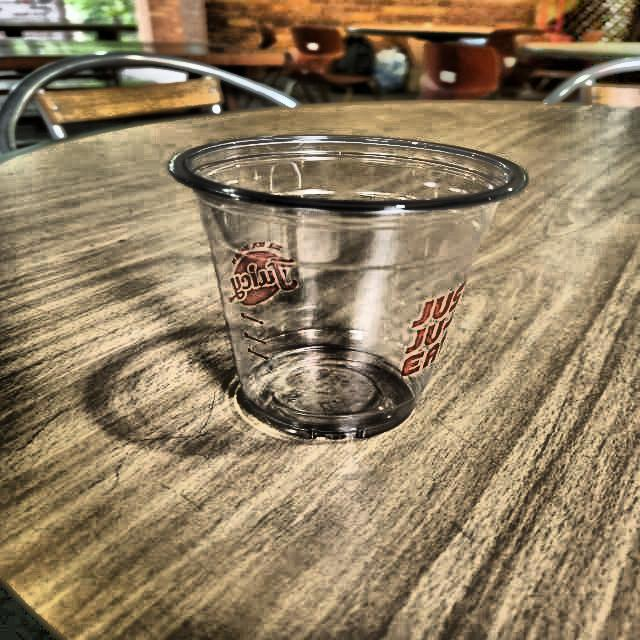plastic cup: (160, 124, 538, 448)
